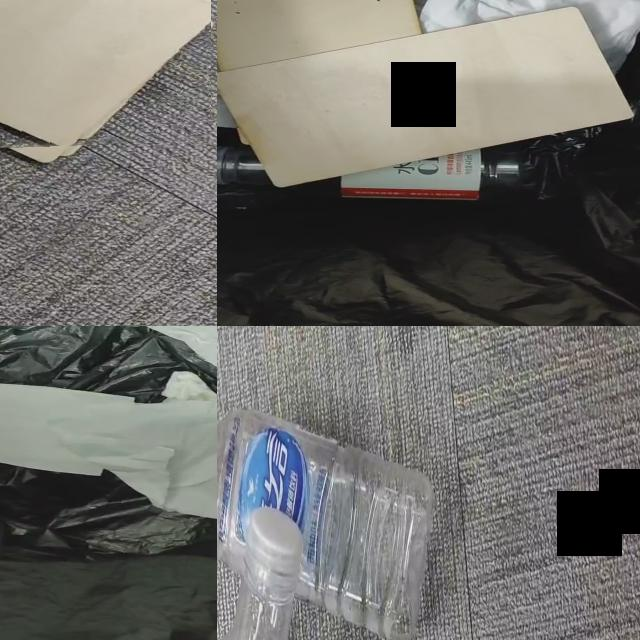bottle: (217, 408, 435, 640), (286, 146, 539, 200), (222, 504, 305, 640), (217, 146, 291, 202)
carton: (217, 0, 631, 186), (0, 0, 211, 150)
paper: (0, 372, 217, 519), (421, 0, 640, 72)
